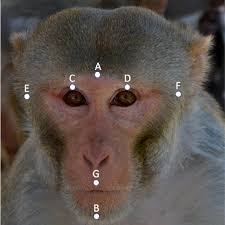monkey: (2, 10, 213, 225)
